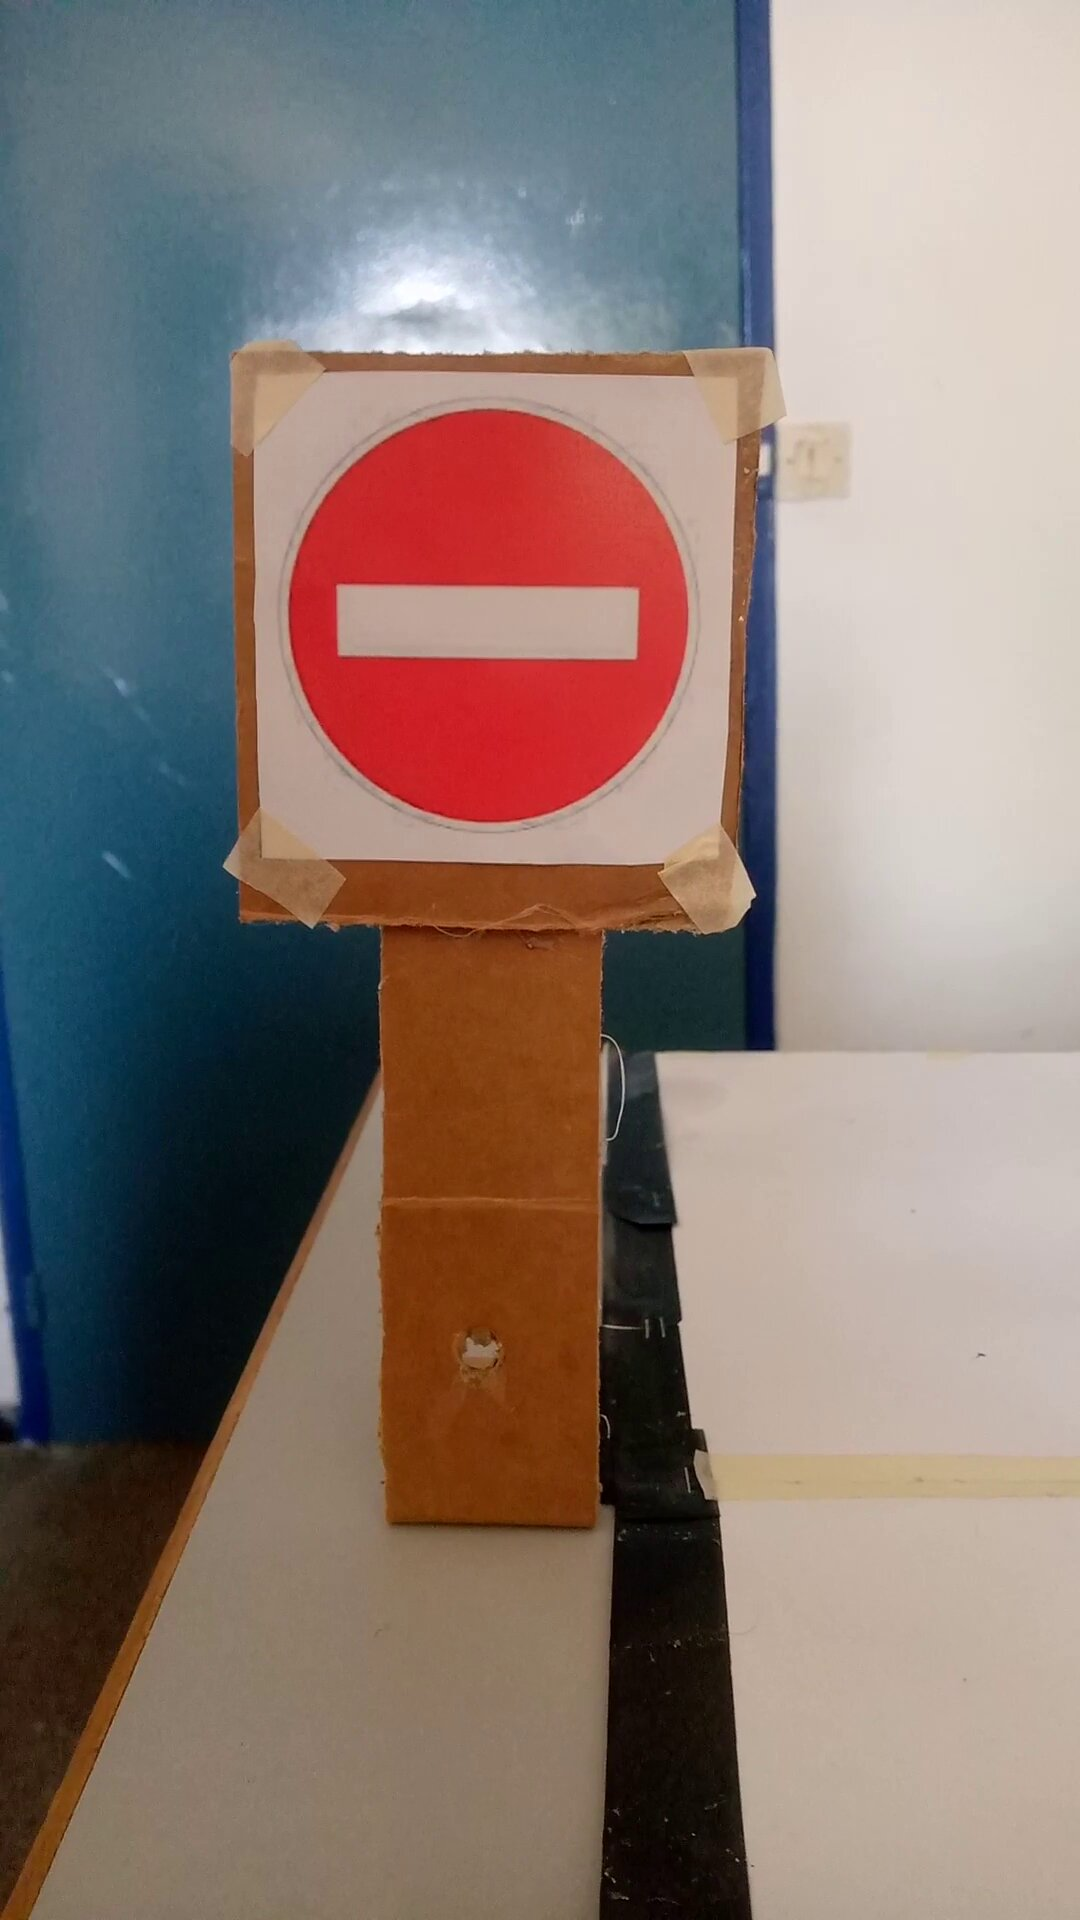panel010: (253, 377, 724, 880)
